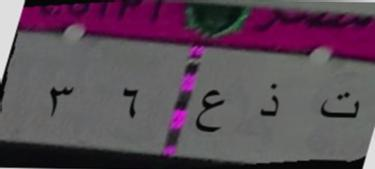3: (41, 78, 80, 124)
6: (118, 77, 147, 125)
ain: (193, 86, 231, 140)
taa: (316, 88, 364, 126)
zaal: (247, 74, 292, 128)
